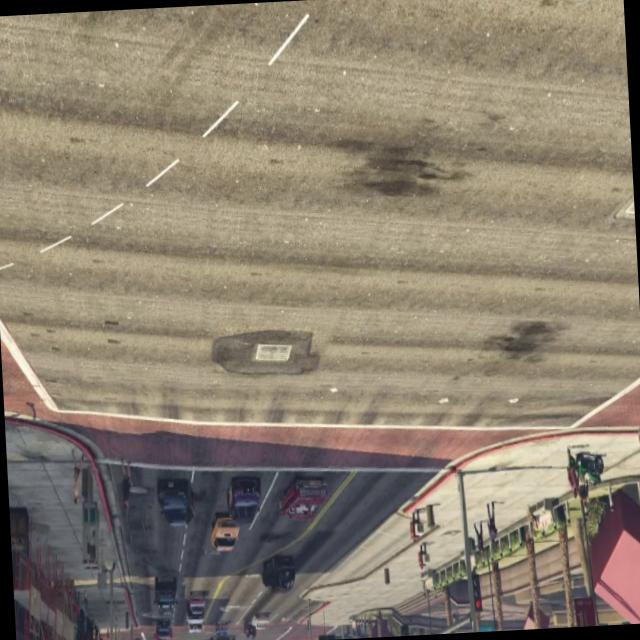Red-Signal: (468, 564, 486, 622), (396, 618, 415, 636), (315, 627, 339, 640)
